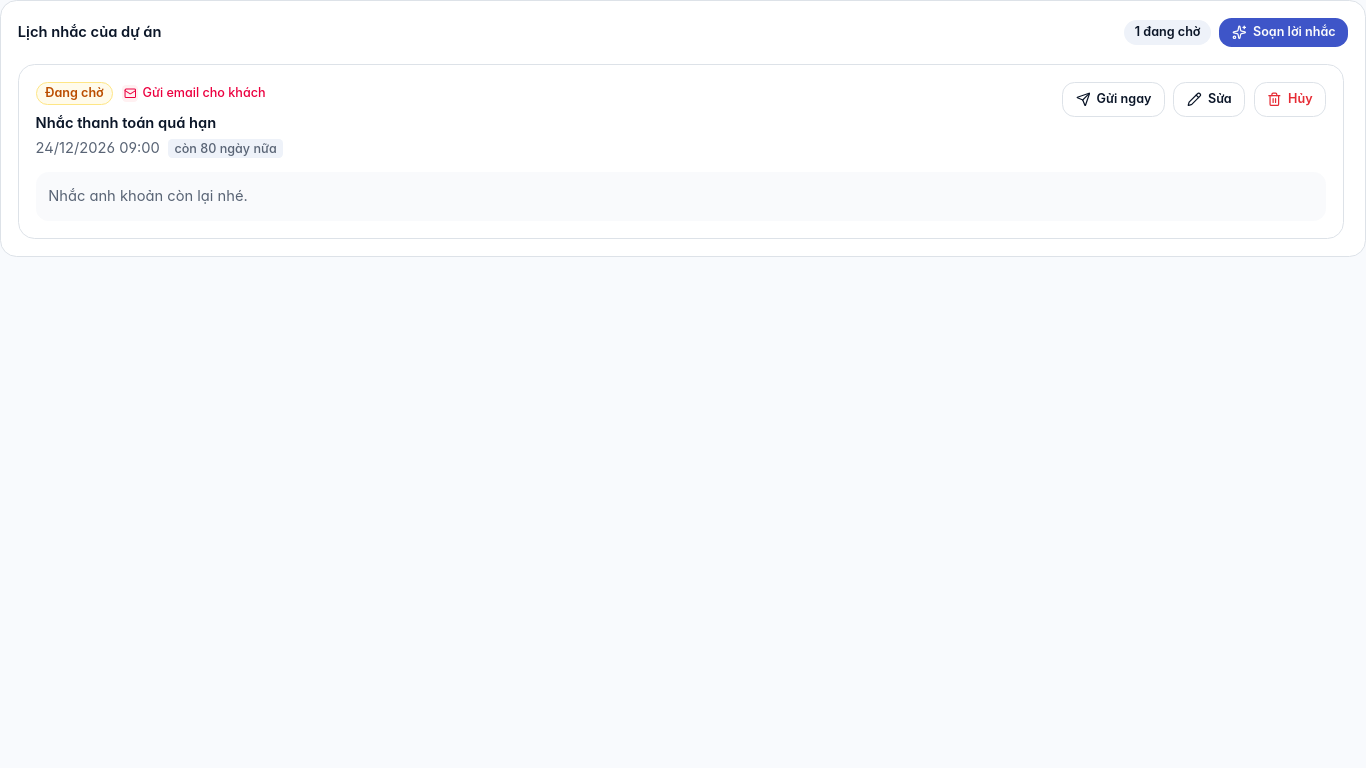
it: <DealReminderPanel /> — bỏ lịch nhắc › hỏi bằng hộp thoại của dự án, không phải hộp thoại trình duyệt
Click the button "Hủy": [1290, 100] box [1254,82,1326,117]
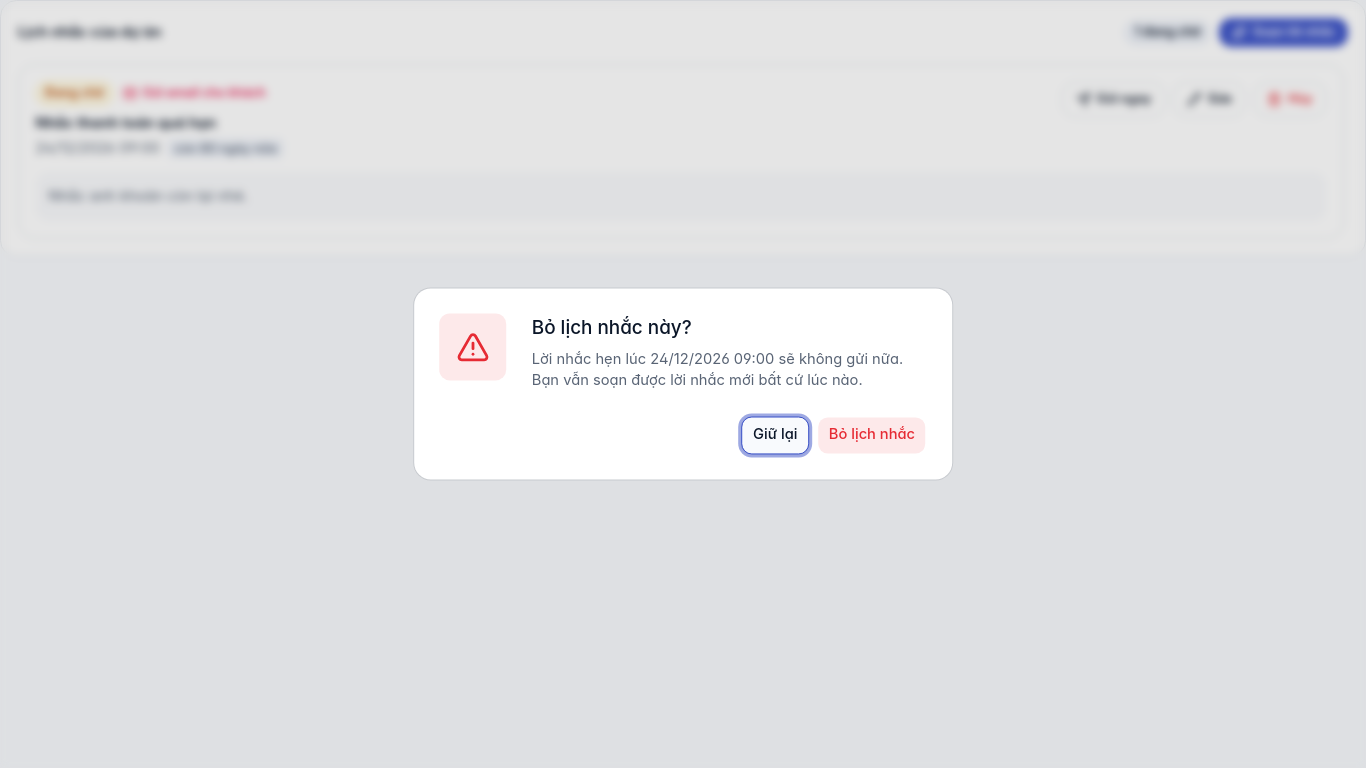
Now the dialog shows "sẽ không gửi nữa", box [532,350,903,389]
Now the dialog shows "soạn được lời nhắc mới", box [532,350,903,389]
